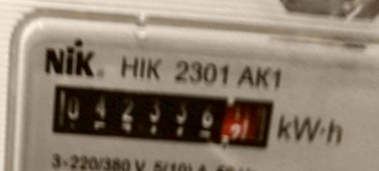0: (66, 92, 79, 121)
2: (118, 94, 136, 121)
3: (145, 94, 161, 123), (174, 95, 188, 124)
4: (92, 93, 108, 120)
6: (199, 102, 214, 129)
screen: (41, 75, 281, 157)
